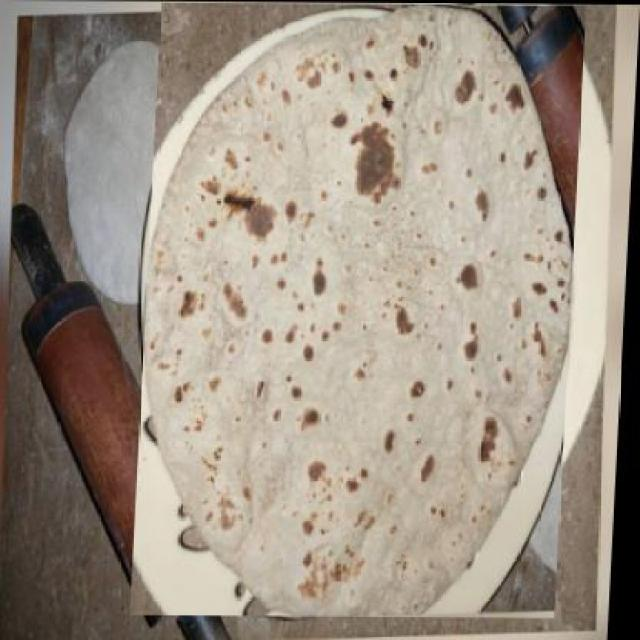chapati: (135, 1, 588, 618)
